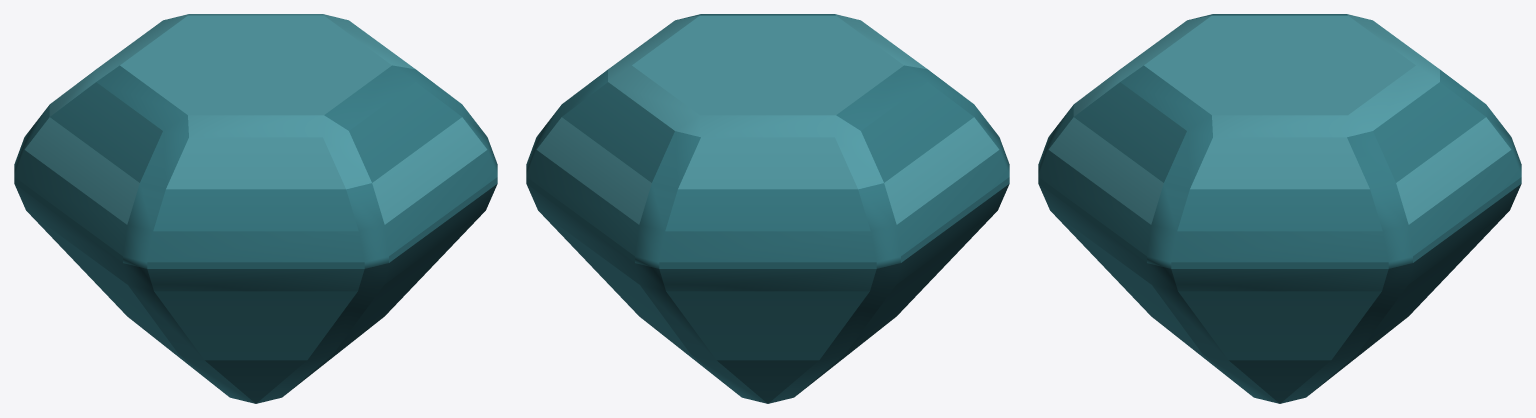
The model's file is Gem_04.glb.
3 renders of one model, left to right at view 1: azimuth 30°, elevation 25°; view 2: azimuth 150°, elevation 25°; view 3: azimuth 270°, elevation 25°, orthographic.
Parts seen in each view (by area): view 1: Gem_04; view 2: Gem_04; view 3: Gem_04.
Part boxes in pixels (<box>): Gem_04: <box>14,14,497,403</box>; Gem_04: <box>526,14,1009,403</box>; Gem_04: <box>1038,14,1521,403</box>.
Bounding box in the file's own units: 0.7967 × 0.6616 × 0.89.
